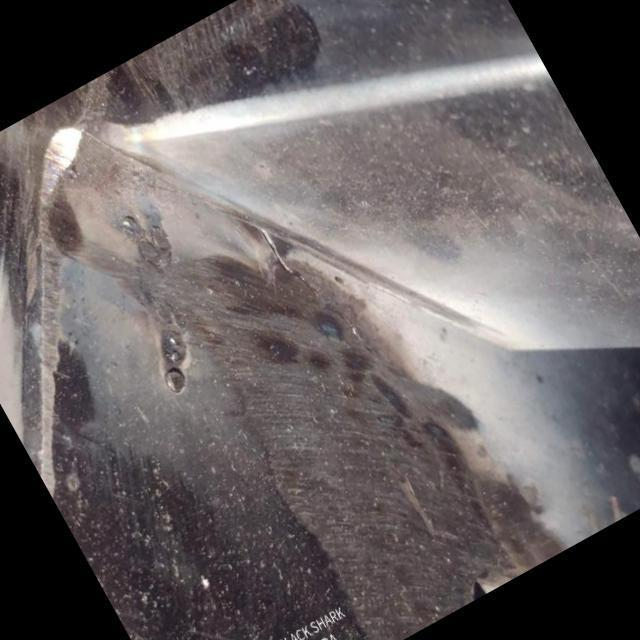defect: (253, 220, 365, 347)
